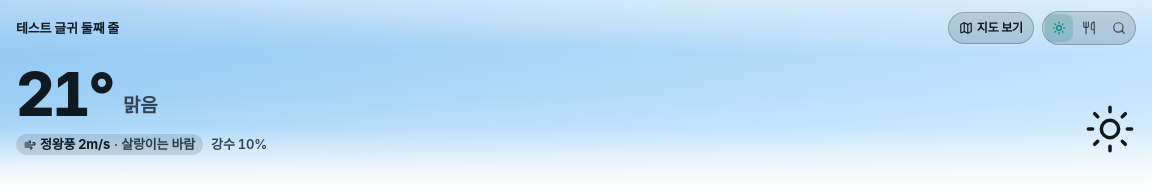
Test case: HomeWeatherHero — 스트립 인사말(heroStyle) › heroStyle='greeting'이면 인사말을 클릭해 출처 툴팁을 열고 닫을 수 있다
This screenshot has width=1152, height=191.
Step 1. Click the button with test id "hero-greeting-text" → (68, 28), box [16,20,940,36]
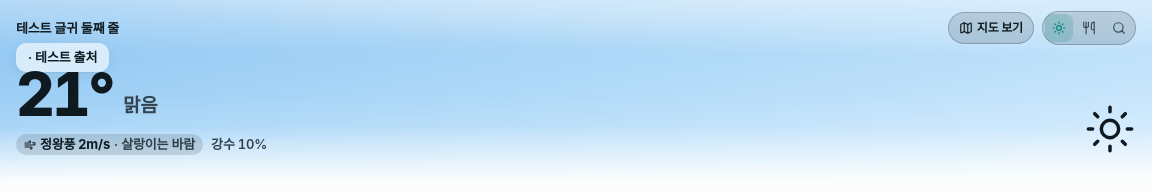
Expected: the tooltip reads "· 테스트 출처", [28,48,97,64]
Step 2. Click the button with test id "hero-greeting-text" → (68, 28), box [16,20,940,36]
Wait 160 ms
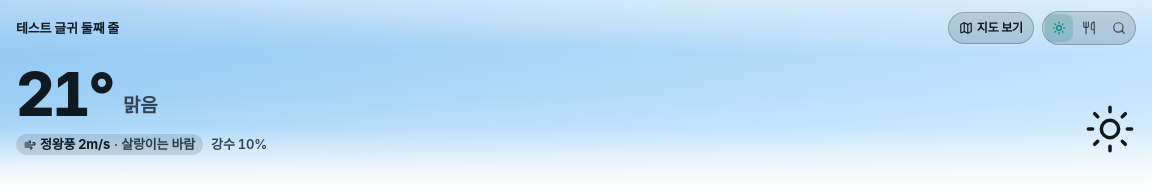
Expected: the tooltip "· 테스트 출처" is gone
